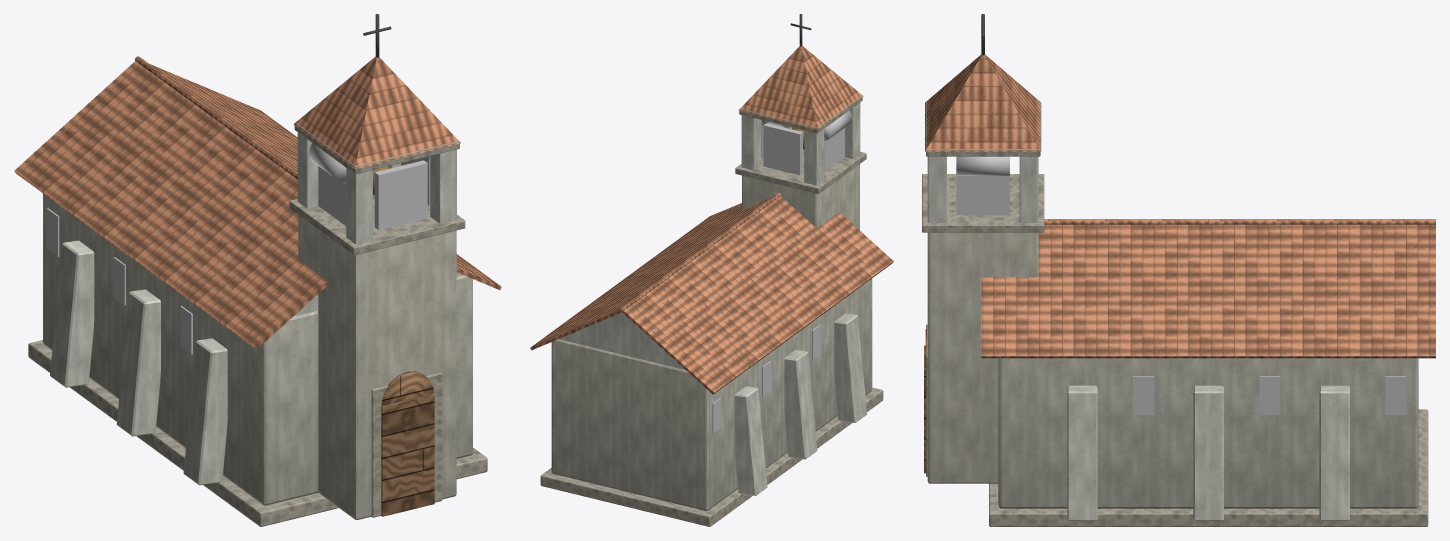
Rendered from church_colonial.glb.
3 views of the same model, side by side, from view 1: azimuth 30°, elevation 25°; view 2: azimuth 150°, elevation 25°; view 3: azimuth 270°, elevation 25° (orthographic). The views are drawn at different scales.
Parts seen in each view (by area): view 1: church_colonial_geometry; view 2: church_colonial_geometry; view 3: church_colonial_geometry.
Part boxes in pixels (bbox=[...]): church_colonial_geometry: bbox=[14, 14, 501, 526]; church_colonial_geometry: bbox=[530, 14, 893, 526]; church_colonial_geometry: bbox=[922, 14, 1435, 526].
Bounding box in the file's own units: 7.65 × 13.3 × 13.45.
Materials: 7 (7 with a texture image).
